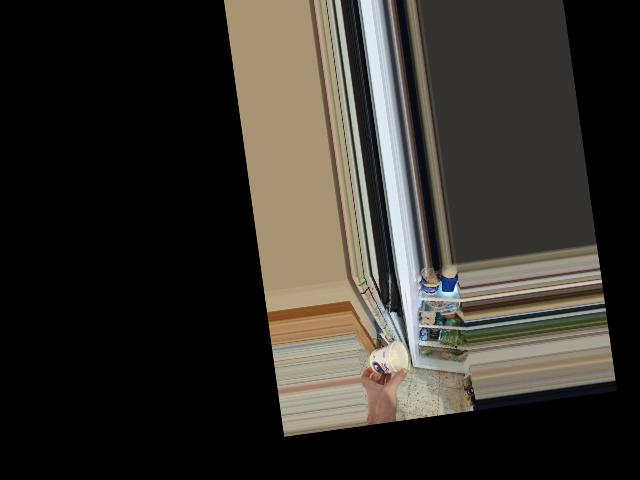cotage: (368, 342, 410, 378)
